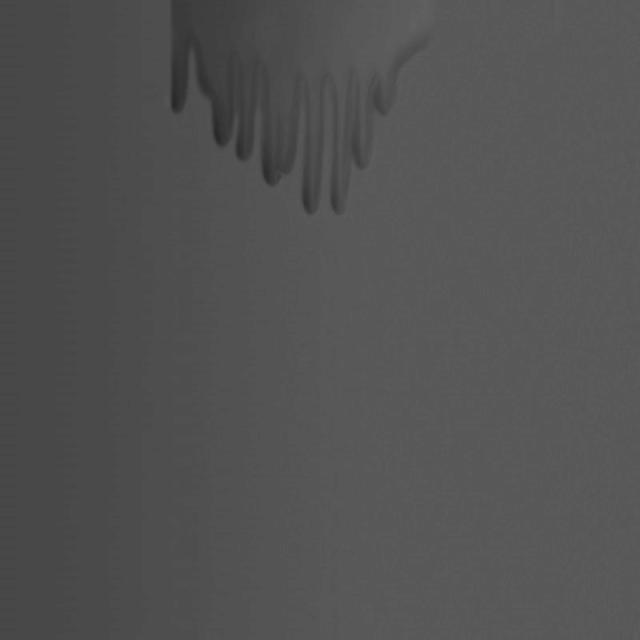paint drips: (156, 0, 436, 222)
